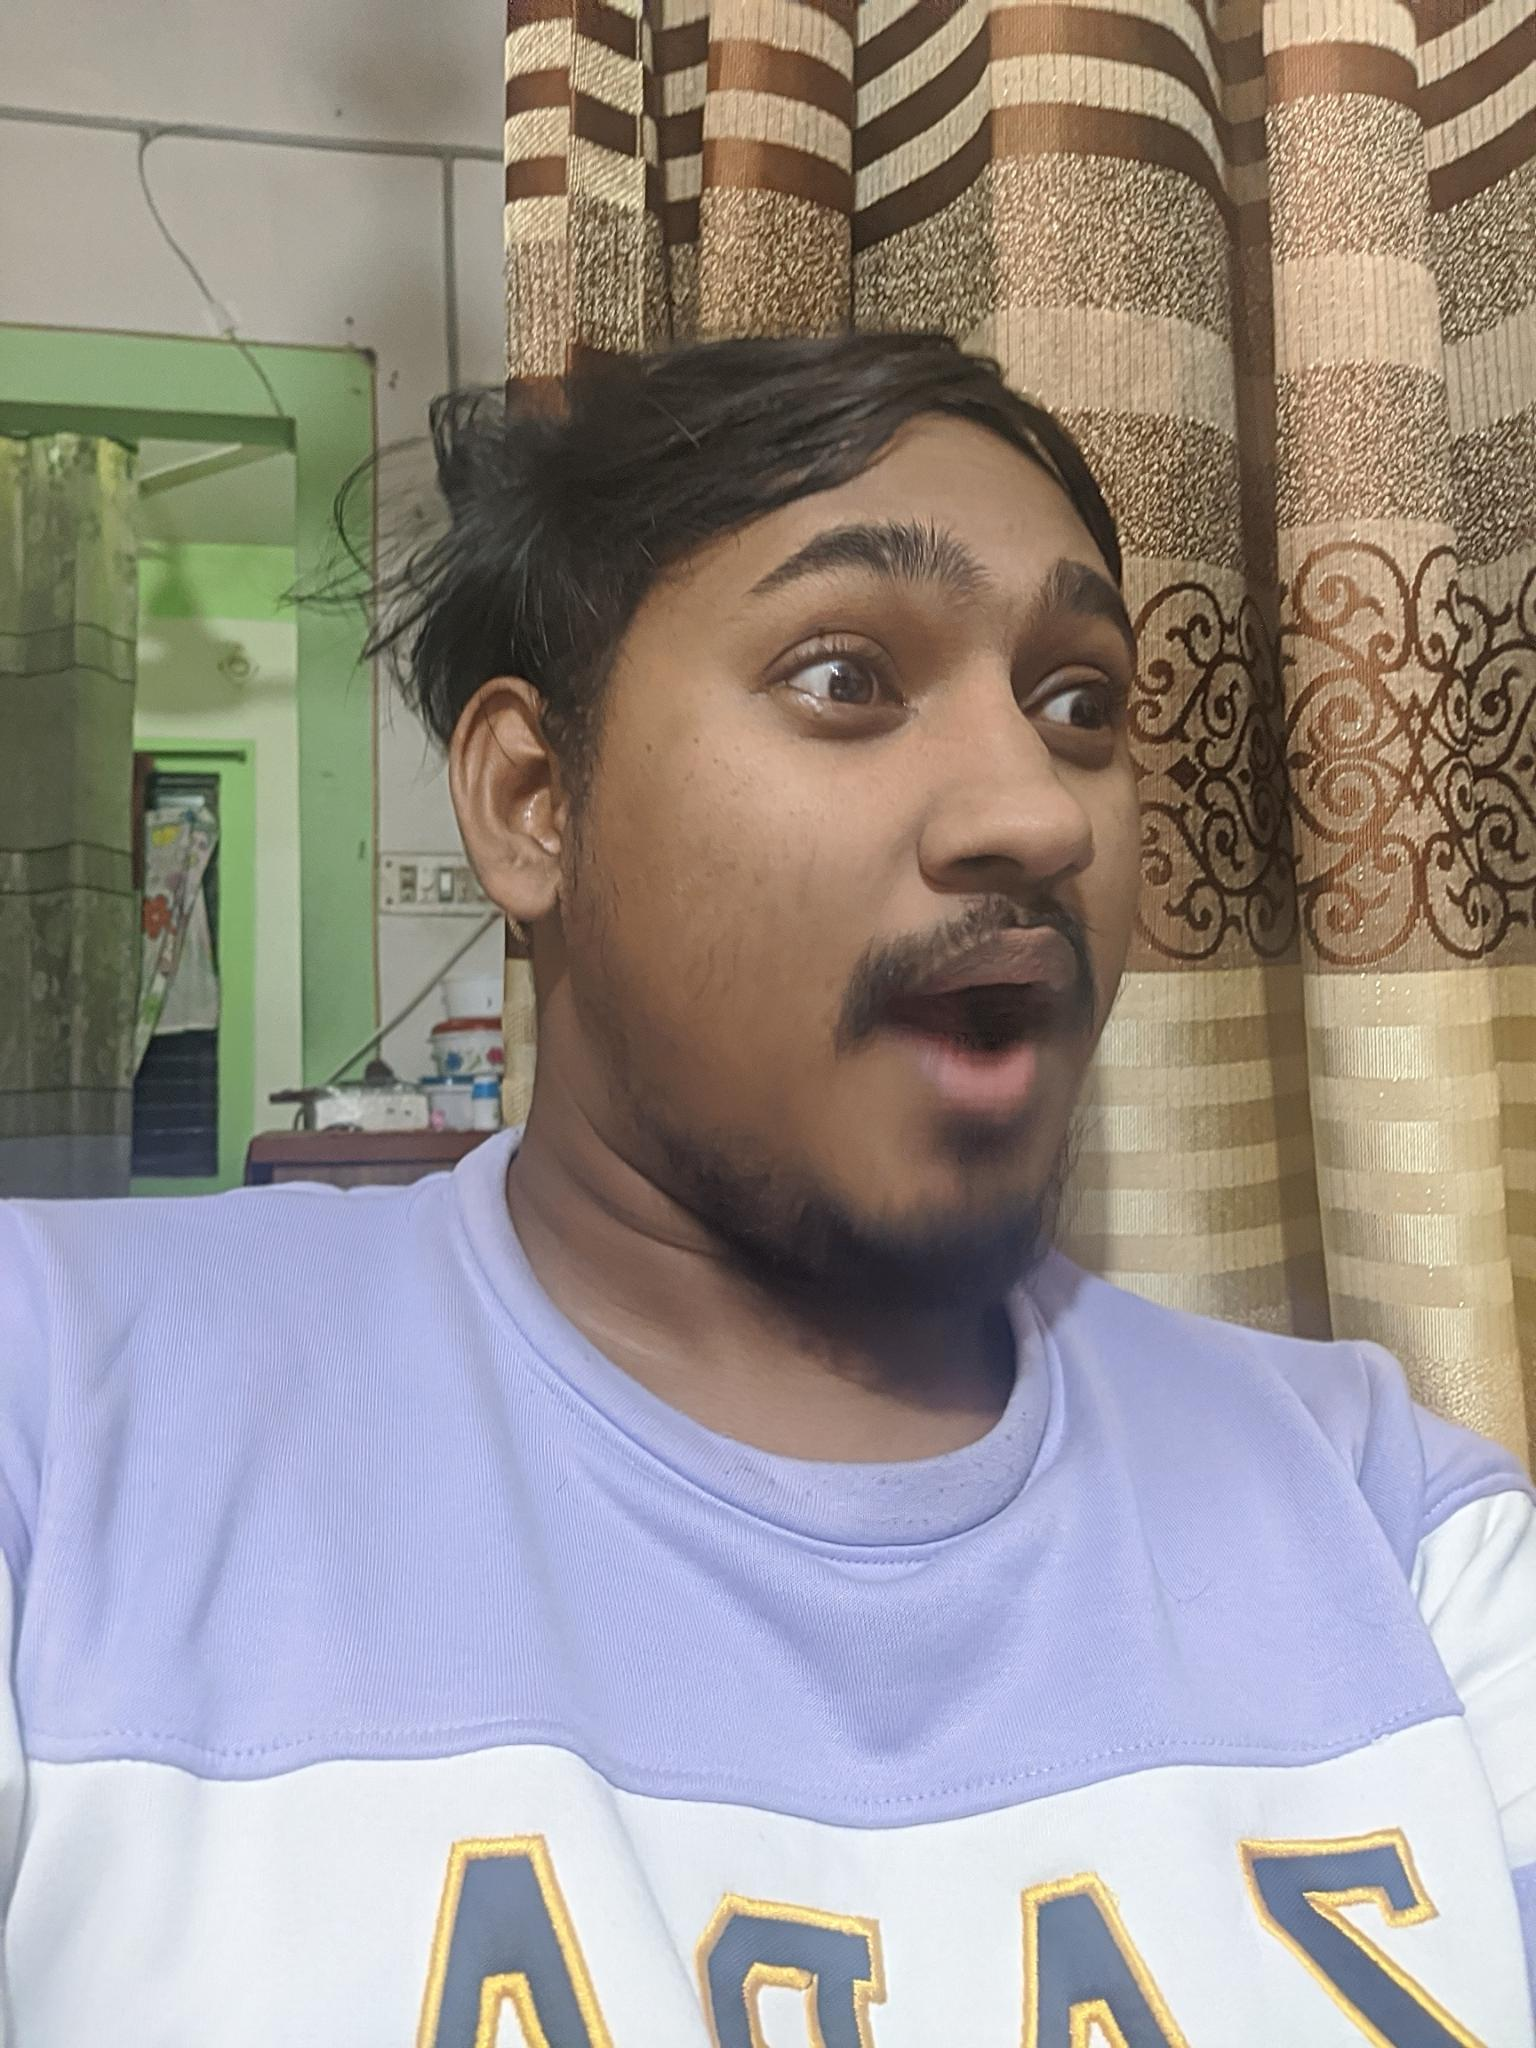Surprise: (668, 458, 1191, 1226)
